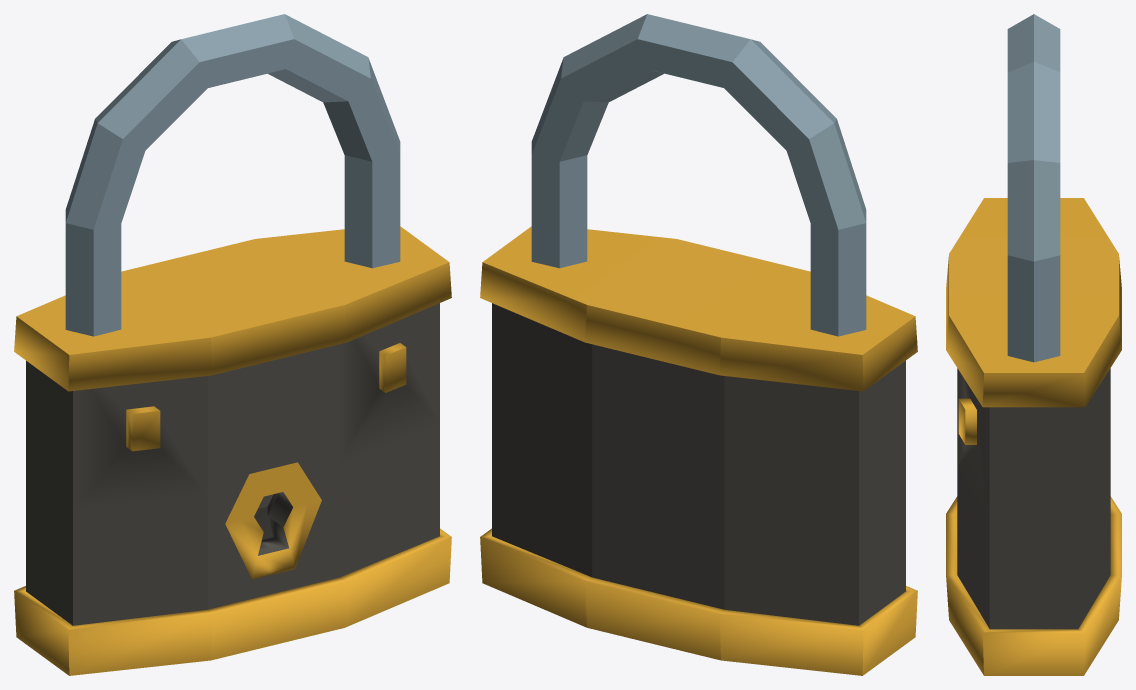
The model's file is Lock.fbx.
3 renders of one model, left to right at view 1: azimuth 30°, elevation 25°; view 2: azimuth 150°, elevation 25°; view 3: azimuth 270°, elevation 25°, orthographic. The views are drawn at different scales.
Visible parts, largest first — view 1: SM_Icon_Lock_Closed_01; view 2: SM_Icon_Lock_Closed_01; view 3: SM_Icon_Lock_Closed_01.
Boxes of the visible parts, left/top/right/bottom form: SM_Icon_Lock_Closed_01: left=14, top=14, right=451, bottom=675; SM_Icon_Lock_Closed_01: left=480, top=14, right=917, bottom=675; SM_Icon_Lock_Closed_01: left=946, top=14, right=1121, bottom=675.
Bounding box in the file's own units: 34.46 × 50.2 × 14.51.
